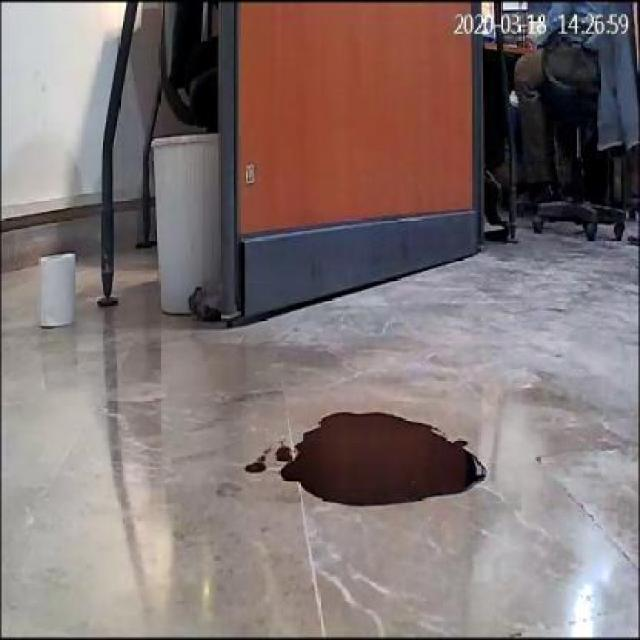spill: (281, 410, 488, 508)
